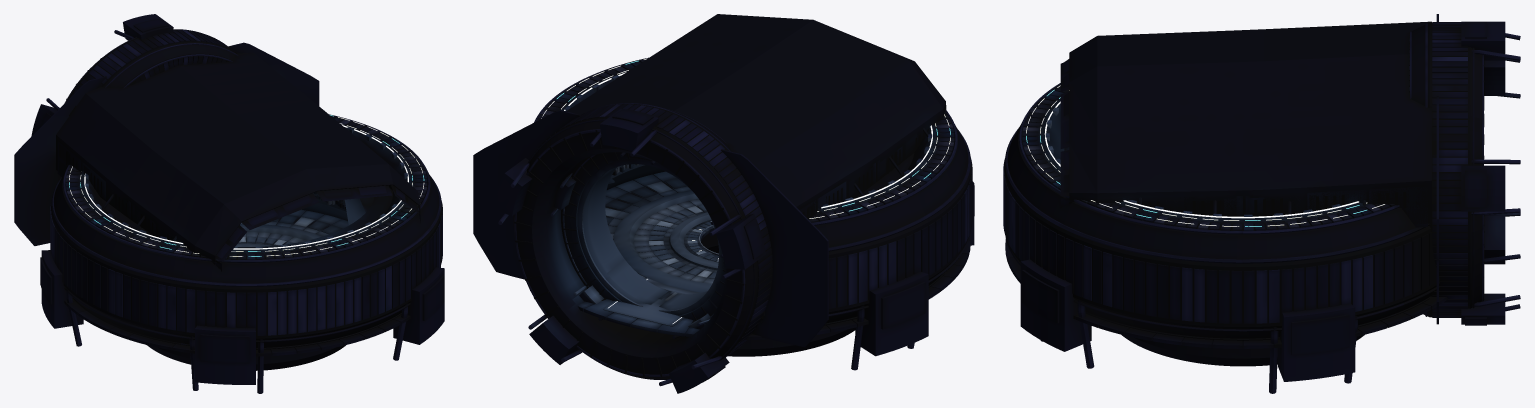
The model's file is citadel_hangar_reconstructed.glb.
3 renders of one model, left to right at view 1: azimuth 30°, elevation 25°; view 2: azimuth 150°, elevation 25°; view 3: azimuth 270°, elevation 25°, orthographic. The views are drawn at different scales.
Parts seen in each view (by area): view 1: CUBIERTA | Casco facetado Zakera, PRESIDIUM | Blindaje radial, PRESIDIUM | Perfil portante, PRESIDIUM | Nervios y acoplamientos, SALIDA NUEVA | Transicion octogonal perforada, CUBIERTA | Placas y rejillas, SALIDA EXTERIOR | Blindaje exterior, SALIDA EXTERIOR | Segundo perfil, SALIDA EXTERIOR | Soportes del blindaje exterior, SUELO | Perfil Exterior, GALERIA | Luminarias originales, HOMBRO | Escudo 1 (+1 smaller); view 2: CUBIERTA | Casco facetado Zakera, SALIDA EXTERIOR | Segundo perfil, SALIDA NUEVA | Transicion octogonal perforada, SALIDA EXTERIOR | Soportes del blindaje exterior, PRESIDIUM | Blindaje radial, PRESIDIUM | Perfil portante, SALIDA | Perfil escalonado, PRESIDIUM | Nervios y acoplamientos, SALIDA EXTERIOR | Blindaje exterior, SUELO | Perfil Exterior, SALIDA | Aros y cinco acoplamientos, CUBIERTA | Placas y rejillas (+8 smaller); view 3: CUBIERTA | Casco facetado Zakera, PRESIDIUM | Blindaje radial, PRESIDIUM | Perfil portante, PRESIDIUM | Nervios y acoplamientos, SALIDA EXTERIOR | Blindaje exterior, SALIDA EXTERIOR | Soportes del blindaje exterior, SALIDA EXTERIOR | Segundo perfil, CUBIERTA | Placas y rejillas, SUELO | Perfil Exterior, GALERIA | Luminarias originales, SALIDA NUEVA | Transicion octogonal perforada.
Part boxes in pixels (x1=…): CUBIERTA | Casco facetado Zakera: x1=56, y1=52, x2=420, y2=262; PRESIDIUM | Blindaje radial: x1=40, y1=114, x2=444, y2=363; PRESIDIUM | Perfil portante: x1=51, y1=122, x2=441, y2=348; PRESIDIUM | Nervios y acoplamientos: x1=41, y1=114, x2=444, y2=393; SALIDA NUEVA | Transicion octogonal perforada: x1=14, y1=42, x2=319, y2=245; CUBIERTA | Placas y rejillas: x1=57, y1=106, x2=420, y2=271; SALIDA EXTERIOR | Blindaje exterior: x1=42, y1=18, x2=237, y2=125; SALIDA EXTERIOR | Segundo perfil: x1=68, y1=29, x2=237, y2=99; SALIDA EXTERIOR | Soportes del blindaje exterior: x1=31, y1=14, x2=238, y2=136; SUELO | Perfil Exterior: x1=147, y1=224, x2=345, y2=370; GALERIA | Luminarias originales: x1=69, y1=115, x2=424, y2=256; HOMBRO | Escudo 1: x1=344, y1=197, x2=374, y2=225; CUBIERTA | Casco facetado Zakera: x1=566, y1=14, x2=945, y2=215; SALIDA EXTERIOR | Segundo perfil: x1=514, y1=103, x2=771, y2=378; SALIDA NUEVA | Transicion octogonal perforada: x1=473, y1=110, x2=828, y2=347; SALIDA EXTERIOR | Soportes del blindaje exterior: x1=493, y1=103, x2=765, y2=393; PRESIDIUM | Blindaje radial: x1=537, y1=58, x2=974, y2=329; PRESIDIUM | Perfil portante: x1=559, y1=69, x2=971, y2=323; SALIDA | Perfil escalonado: x1=564, y1=152, x2=725, y2=320; PRESIDIUM | Nervios y acoplamientos: x1=530, y1=57, x2=974, y2=370; SALIDA EXTERIOR | Blindaje exterior: x1=535, y1=104, x2=772, y2=382; SUELO | Perfil Exterior: x1=613, y1=190, x2=855, y2=356; SALIDA | Aros y cinco acoplamientos: x1=550, y1=152, x2=725, y2=338; CUBIERTA | Placas y rejillas: x1=799, y1=105, x2=946, y2=219; CUBIERTA | Casco facetado Zakera: x1=1069, y1=21, x2=1431, y2=223; PRESIDIUM | Blindaje radial: x1=1003, y1=84, x2=1439, y2=355; PRESIDIUM | Perfil portante: x1=1004, y1=91, x2=1439, y2=338; PRESIDIUM | Nervios y acoplamientos: x1=1005, y1=83, x2=1439, y2=393; SALIDA EXTERIOR | Blindaje exterior: x1=1409, y1=21, x2=1486, y2=325; SALIDA EXTERIOR | Soportes del blindaje exterior: x1=1410, y1=21, x2=1520, y2=324; SALIDA EXTERIOR | Segundo perfil: x1=1411, y1=22, x2=1481, y2=317; CUBIERTA | Placas y rejillas: x1=1060, y1=59, x2=1436, y2=227; SUELO | Perfil Exterior: x1=1121, y1=334, x2=1364, y2=366; GALERIA | Luminarias originales: x1=1026, y1=85, x2=1384, y2=226; SALIDA NUEVA | Transicion octogonal perforada: x1=1436, y1=14, x2=1438, y2=324.
Bounding box in the file's own units: 53.25 × 33.15 × 55.48.
Materials: 11 (11 with a texture image).
